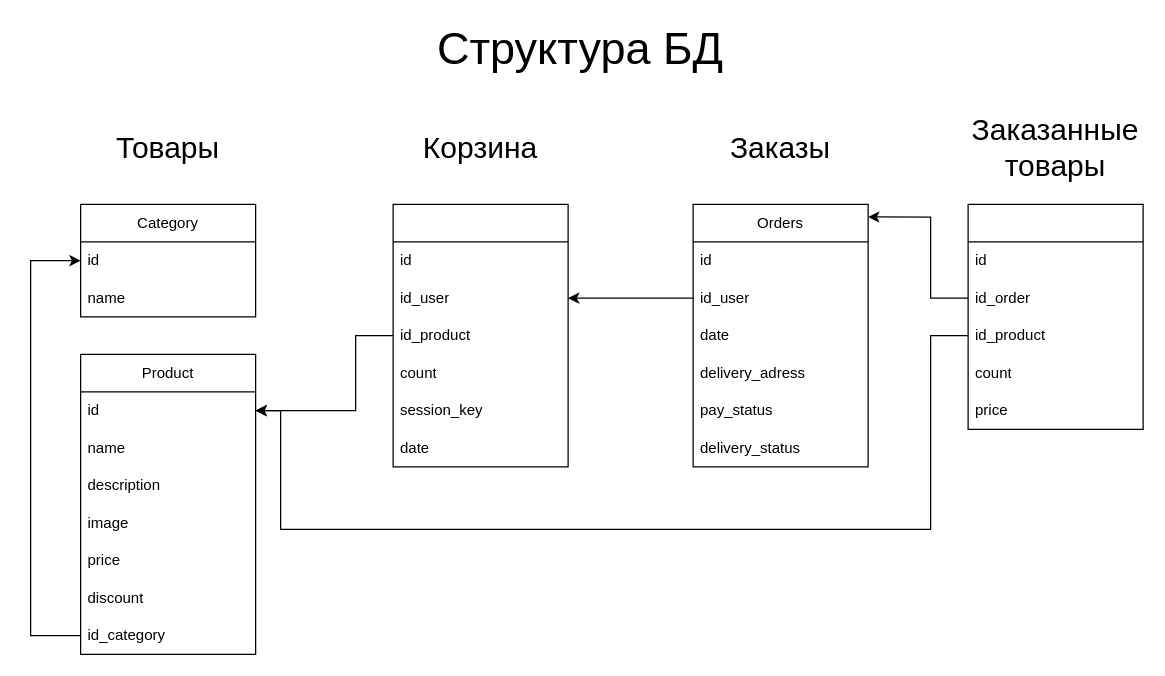
The diagram is 1165 pixels wide and 676 high, and some of its shapes have lost their labels. The shapes that lost their labels are listed below. From the top down, each one's box as (x1, y1, x2, y2) in pixels, then its label:
(392, 203, 568, 467): Busket
(967, 203, 1143, 429): Order_lists
